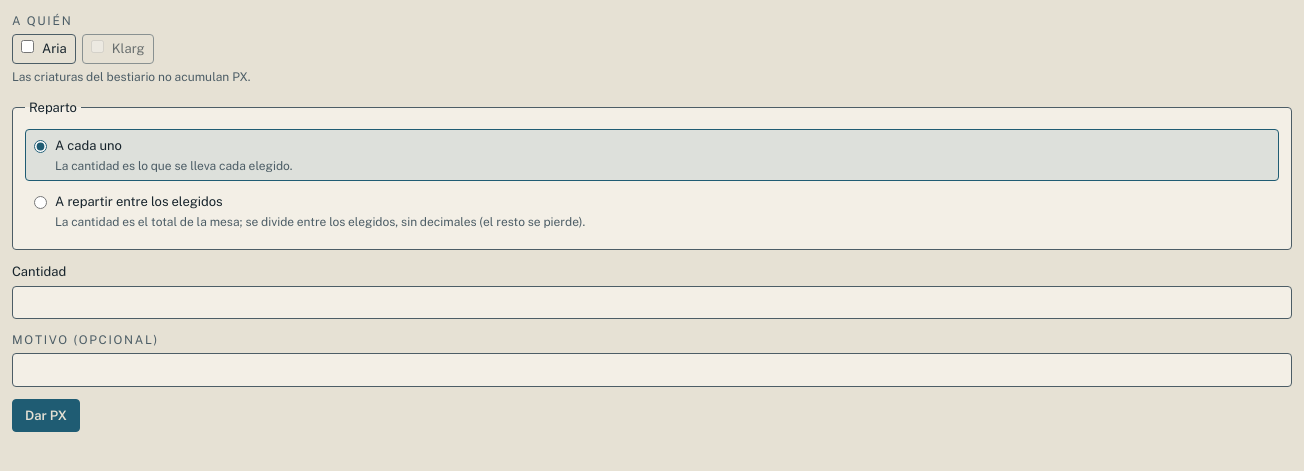
DarXp › un decimal no se trunca en silencio: se dice en línea y no se manda
Click the checkbox labelled "Aria".
click(28, 46)  # box [21,40,34,53]
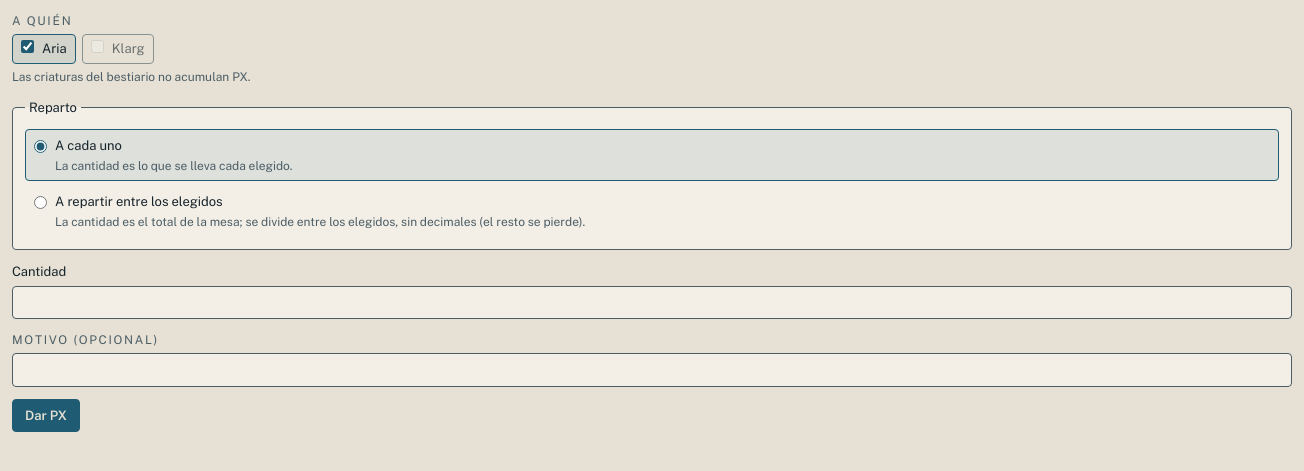
Type "300.7" into the number field labelled "Cantidad".
click(652, 302); type("300.7")  # box [12,286,1292,319]
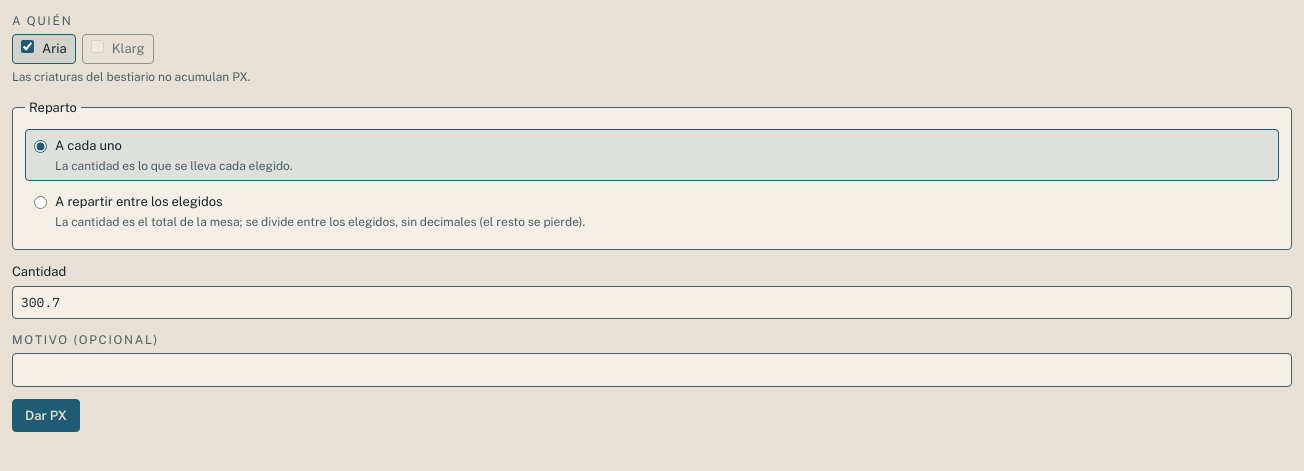
Click the button "Dar PX".
click(46, 415)  # box [12,398,80,432]
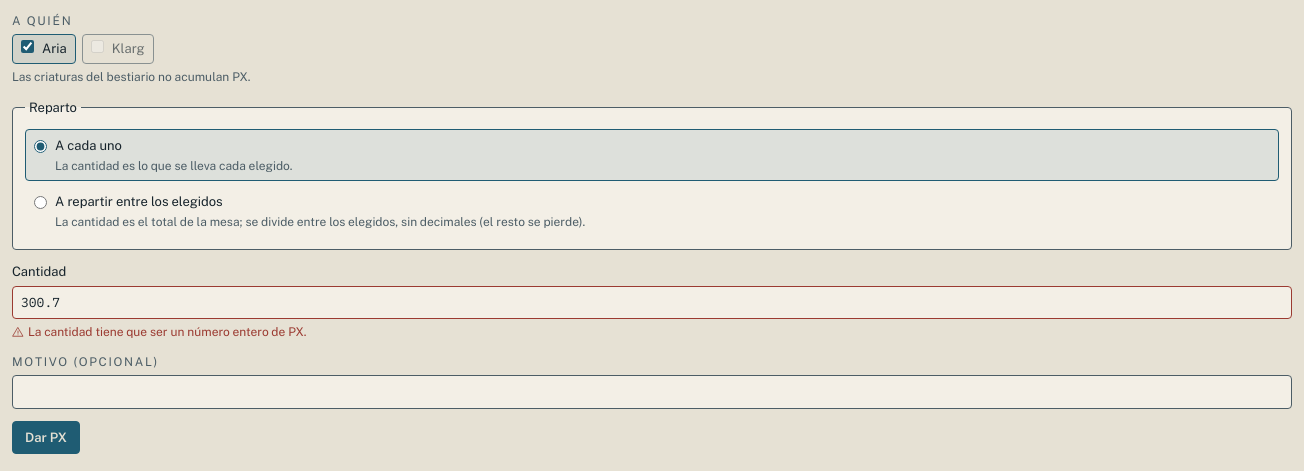
Expected: the text "La cantidad tiene que ser un número entero de PX." is shown, [12,325,306,339]
